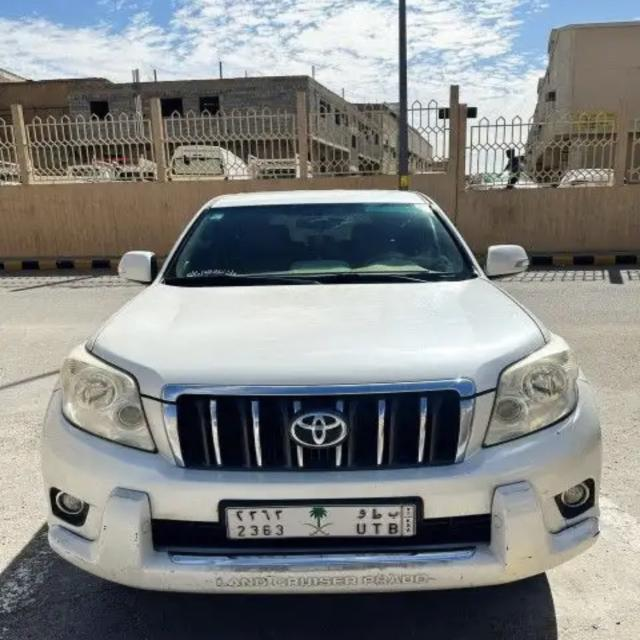license_plate: (226, 504, 417, 546)
